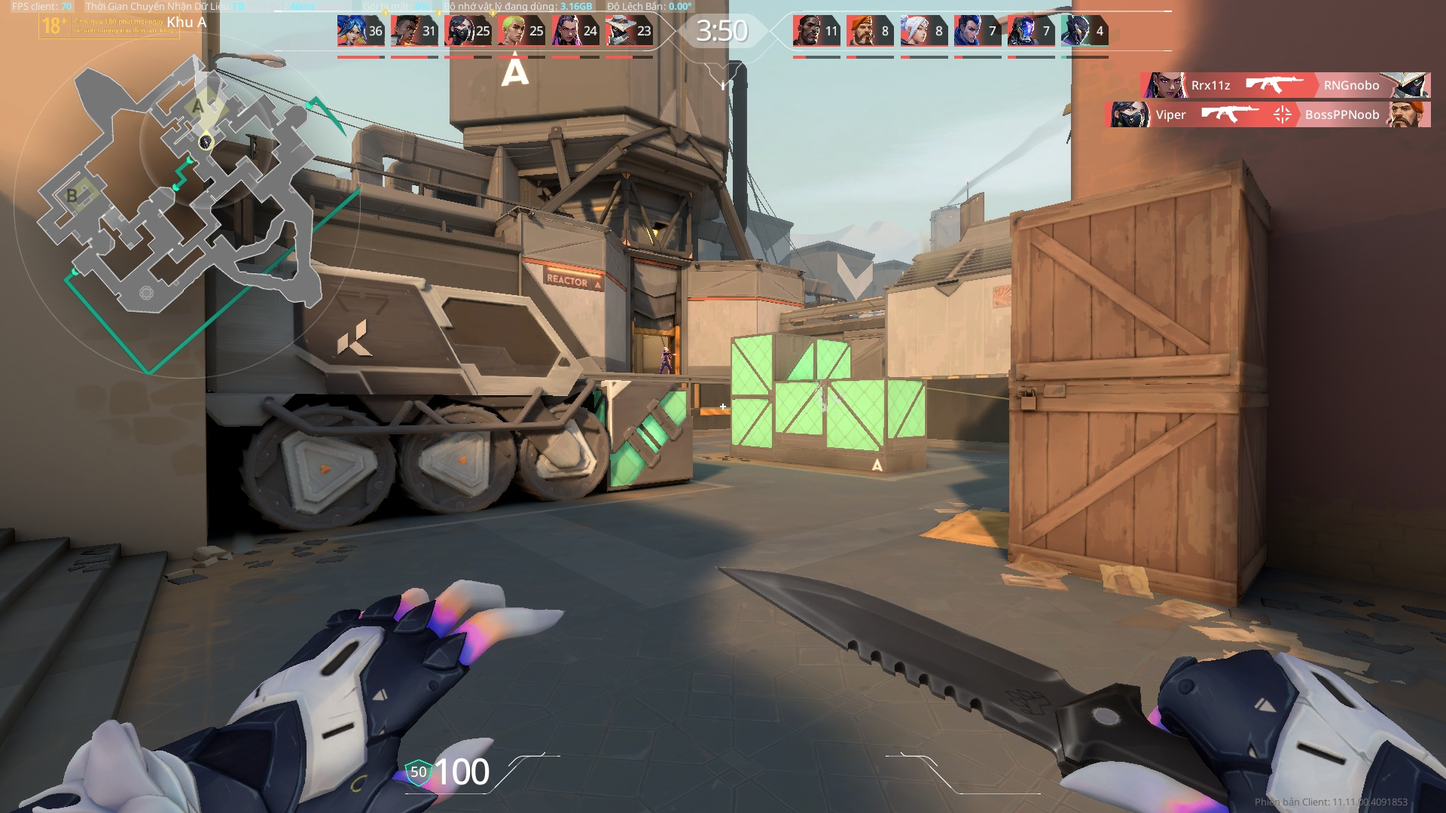body: (660, 351, 670, 360)
head: (662, 343, 668, 353)
